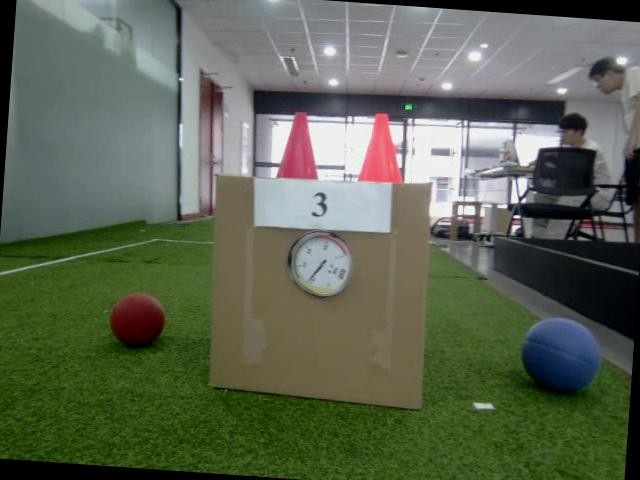3: (308, 189, 330, 220)
Dashboard: (283, 228, 357, 299)
blue_ball: (522, 316, 602, 393)
orange_barrel: (359, 111, 408, 184)
red_ball: (108, 292, 168, 348)
red_barrel: (274, 110, 322, 179)
ssi: (334, 268, 346, 280)
